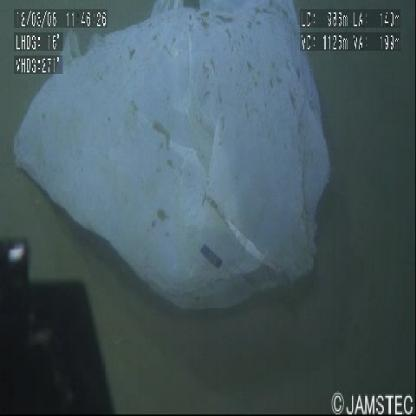Rov: (0, 209, 132, 416)
Rác: (5, 3, 337, 319)
